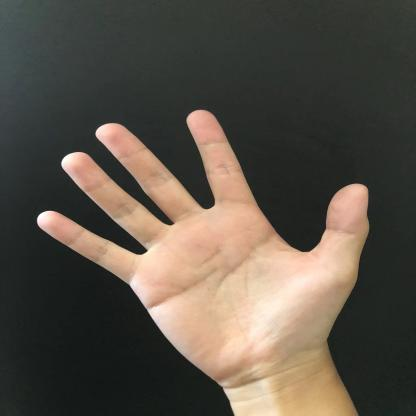palm: (32, 77, 388, 375)
